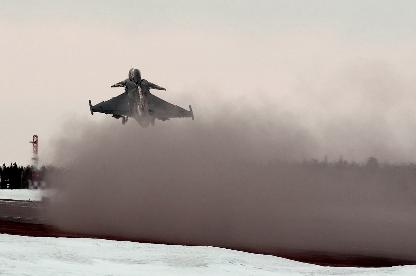JAS39: (90, 66, 194, 128)
